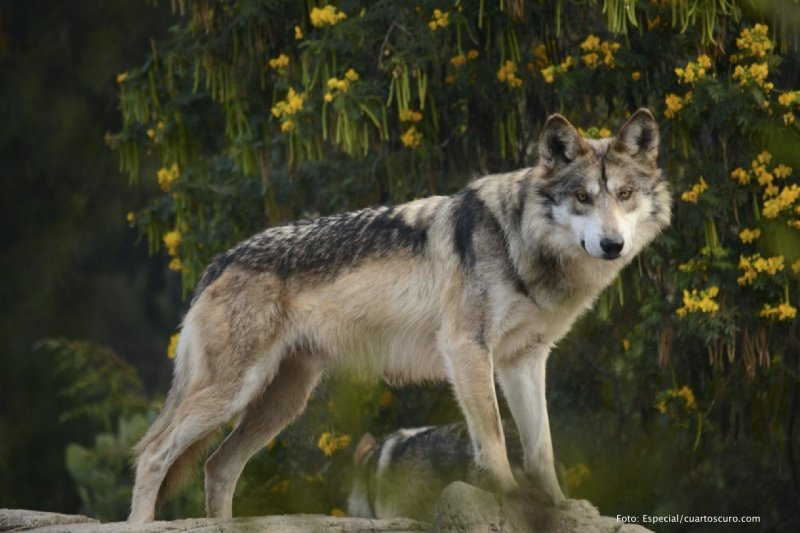Lobo: (132, 88, 664, 515)
